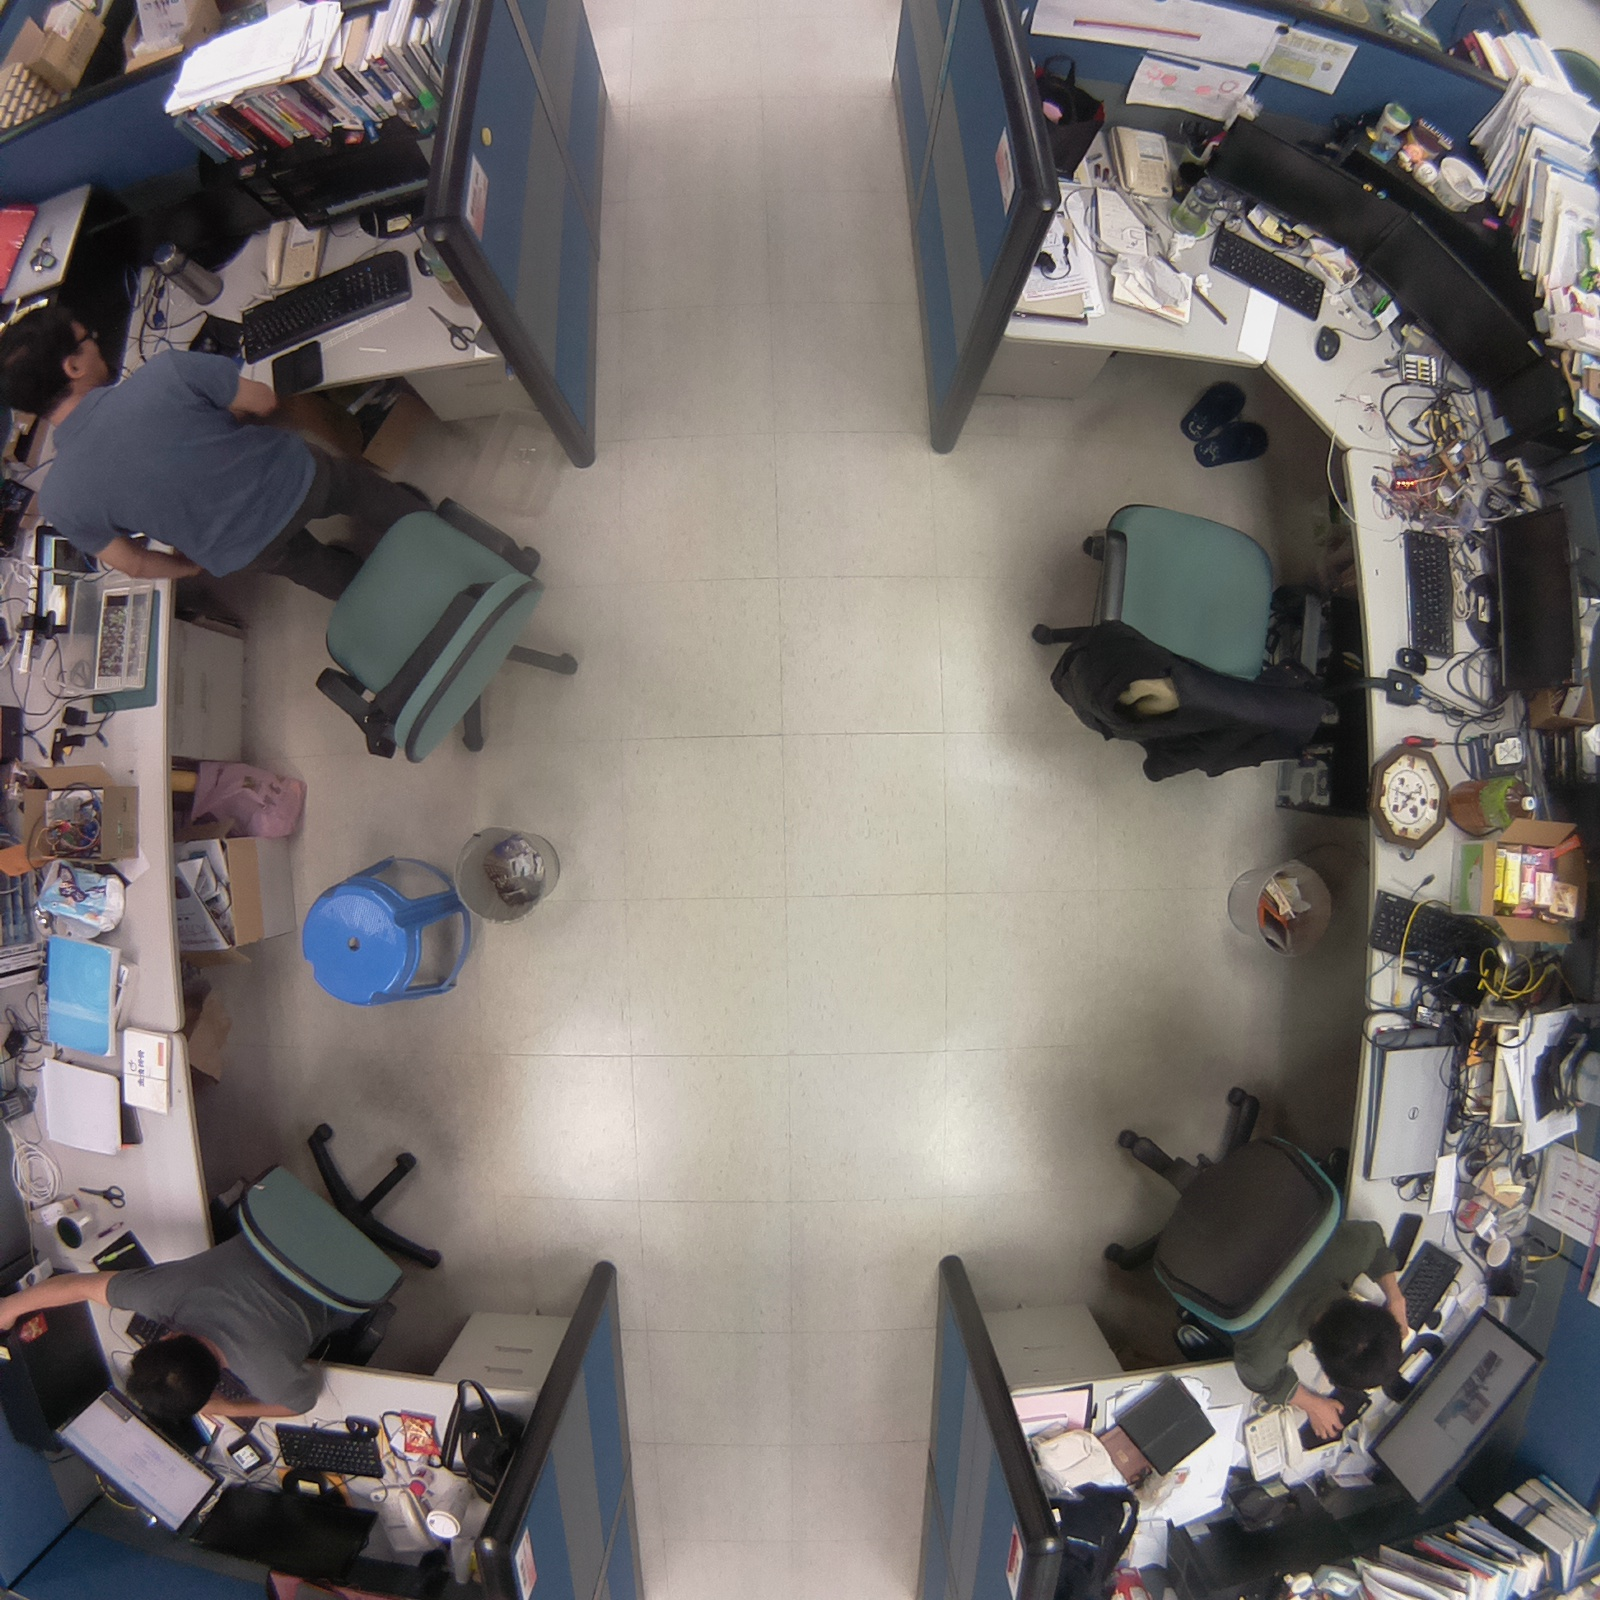chair: (1009, 481, 1358, 809), (296, 491, 609, 783)
head: (1, 304, 119, 421), (117, 1333, 225, 1433), (1309, 1298, 1411, 1402)
sitting: (61, 1111, 460, 1443), (1088, 1073, 1426, 1446)
standing: (1, 306, 432, 612)
